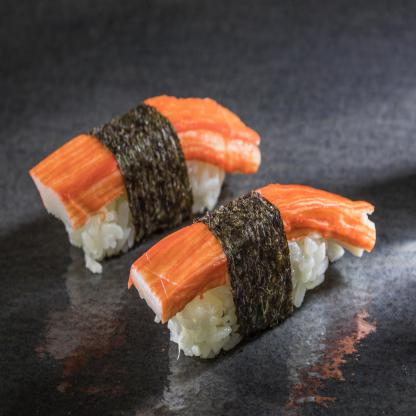kani: (128, 173, 394, 375)
